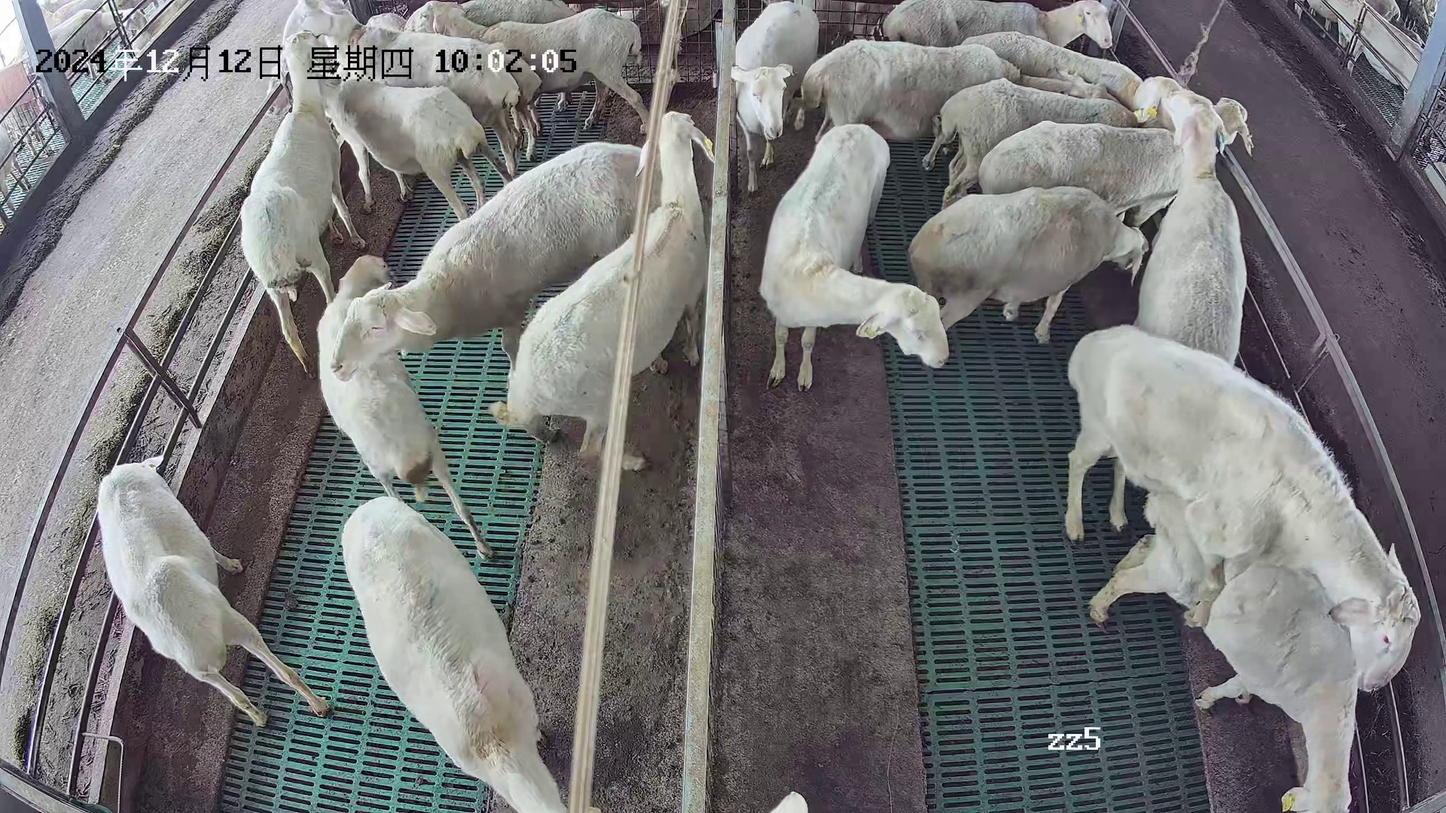Smounting: (1063, 323, 1423, 813)
mounted: (1087, 489, 1365, 813)
